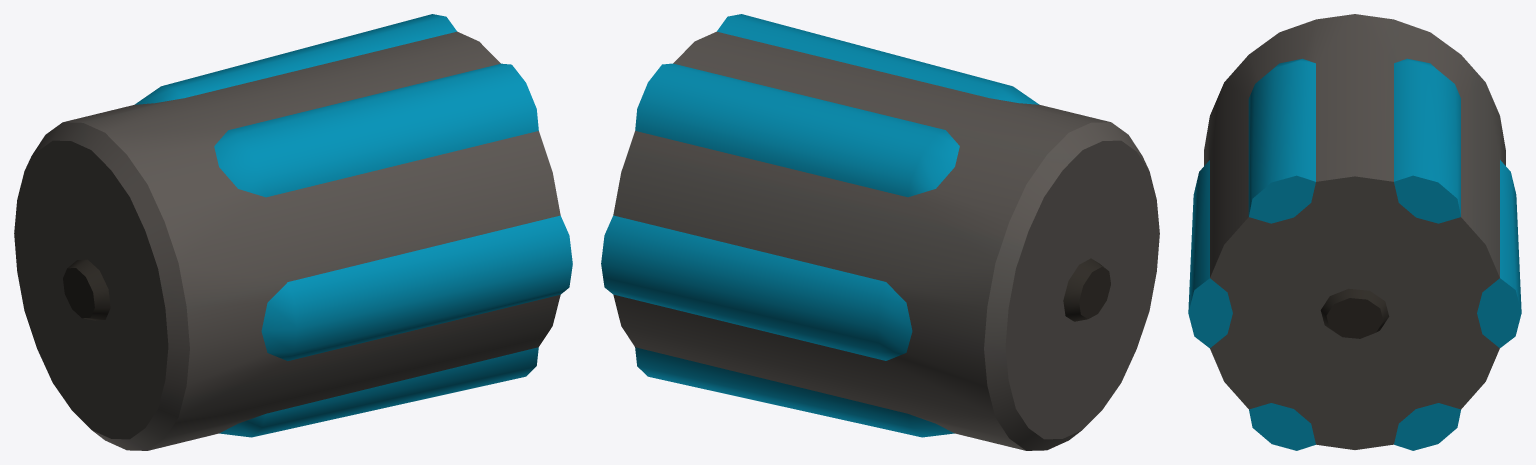
The model's file is Pistol4_Drum.fbx.
3 renders of one model, left to right at view 1: azimuth 30°, elevation 25°; view 2: azimuth 150°, elevation 25°; view 3: azimuth 270°, elevation 25°, orthographic. The views are drawn at different scales.
Visible parts, largest first — view 1: Pistol4_Drum; view 2: Pistol4_Drum; view 3: Pistol4_Drum.
Boxes of the visible parts, bbox=[...] form: Pistol4_Drum: bbox=[14, 14, 572, 450]; Pistol4_Drum: bbox=[601, 14, 1159, 450]; Pistol4_Drum: bbox=[1188, 14, 1521, 450].
Bounding box in the file's own units: 7.27 × 5.22 × 5.72.
